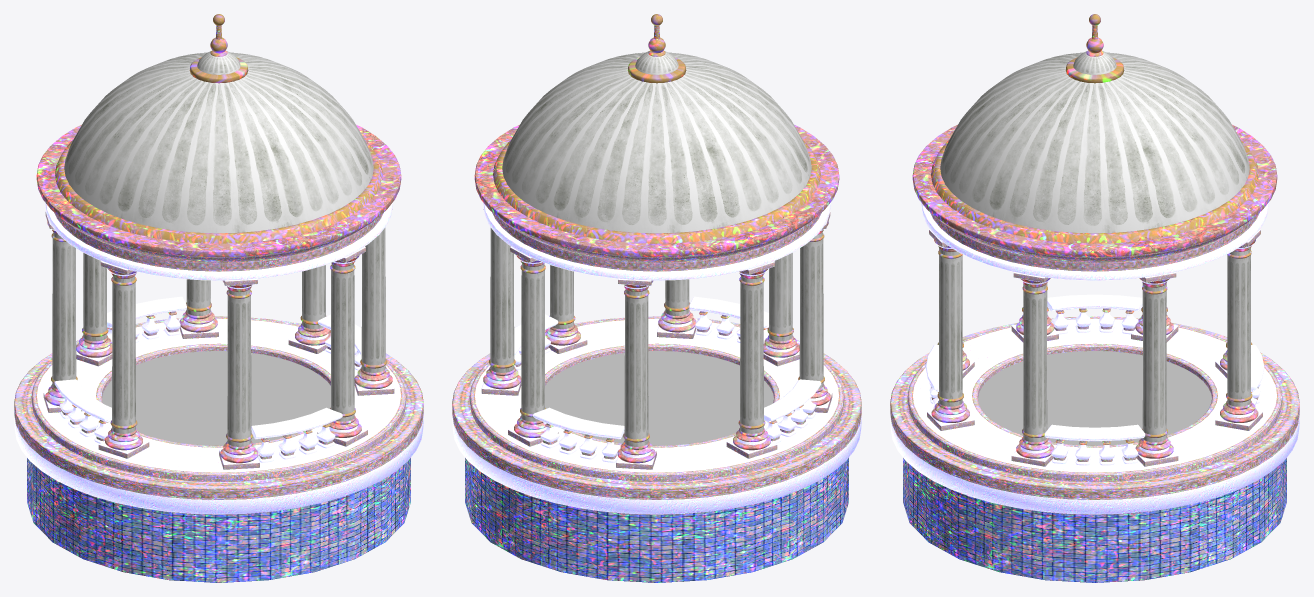
Rendered from pavilion_SM.fbx.
3 renders of one model, left to right at view 1: azimuth 30°, elevation 25°; view 2: azimuth 150°, elevation 25°; view 3: azimuth 270°, elevation 25°, orthographic.
Visible parts, largest first — view 1: pavilion_SM_LOD0; view 2: pavilion_SM_LOD0; view 3: pavilion_SM_LOD0.
Part boxes in pixels (x1,y1,x2,y2): pavilion_SM_LOD0: (14, 14, 423, 582); pavilion_SM_LOD0: (452, 14, 861, 582); pavilion_SM_LOD0: (890, 14, 1299, 582).
Size of the model in its own units: 1008 by 1008 by 1323.
